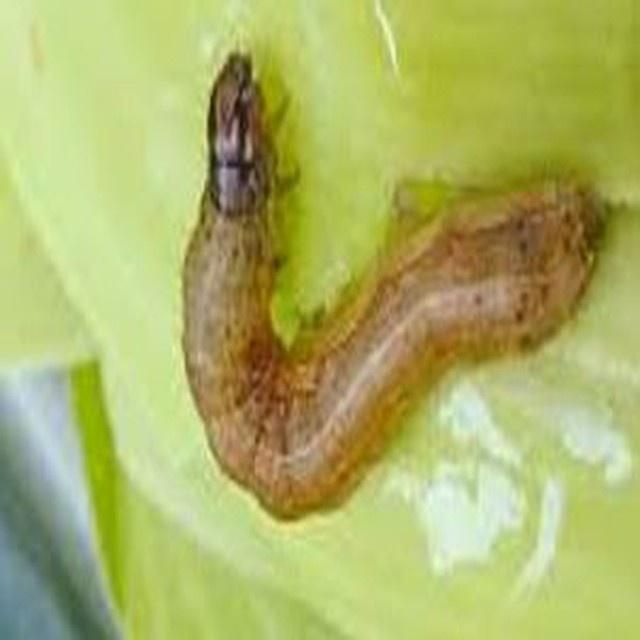gusano_cogollero: (178, 45, 600, 522)
